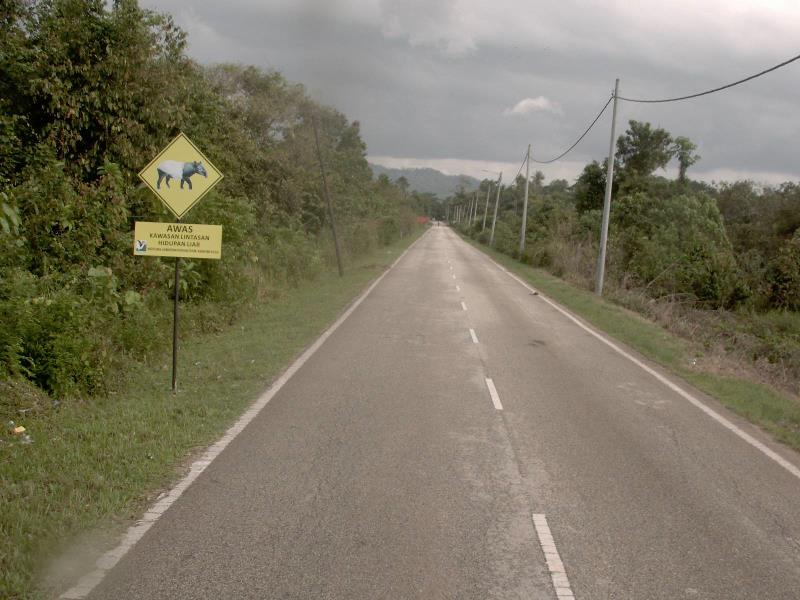traffic_sign: (130, 126, 232, 220)
